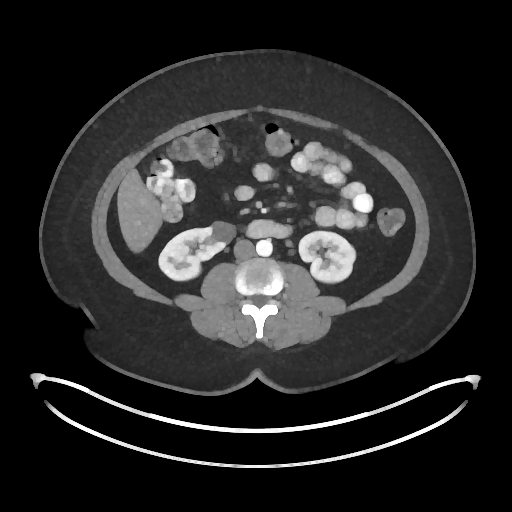Lesion: (207, 219, 238, 245)
